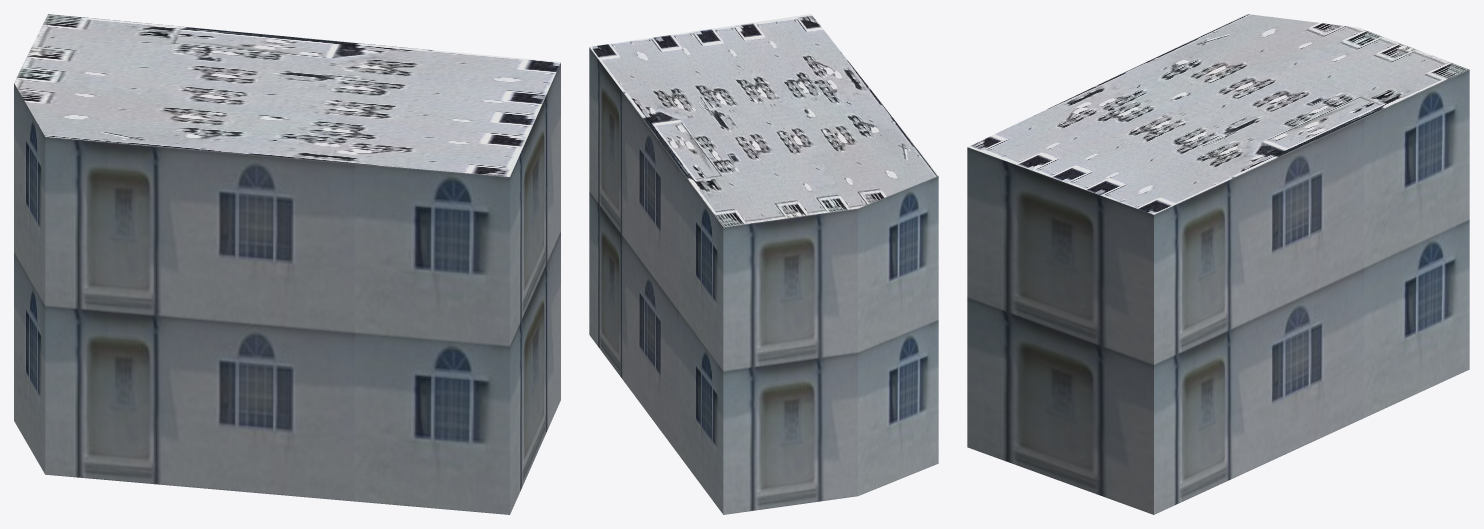
File: ResTex__1677.fbx
3 renders of one model, left to right at view 1: azimuth 30°, elevation 25°; view 2: azimuth 150°, elevation 25°; view 3: azimuth 270°, elevation 25°, orthographic. The views are drawn at different scales.
Parts seen in each view (by area): view 1: CityEngineMaterial_17_m, CityEngineMaterial_8_m; view 2: CityEngineMaterial_17_m, CityEngineMaterial_8_m; view 3: CityEngineMaterial_17_m, CityEngineMaterial_8_m.
Boxes of the visible parts, box(x1,y1,x2,y2) form: CityEngineMaterial_17_m: box(14, 63, 560, 514); CityEngineMaterial_8_m: box(14, 14, 560, 176); CityEngineMaterial_17_m: box(589, 47, 938, 514); CityEngineMaterial_8_m: box(589, 14, 938, 227); CityEngineMaterial_17_m: box(967, 69, 1469, 514); CityEngineMaterial_8_m: box(968, 14, 1468, 214).
Bounding box in the file's own units: 8.61 × 6 × 9.09.
2 materials, 2 textured.
